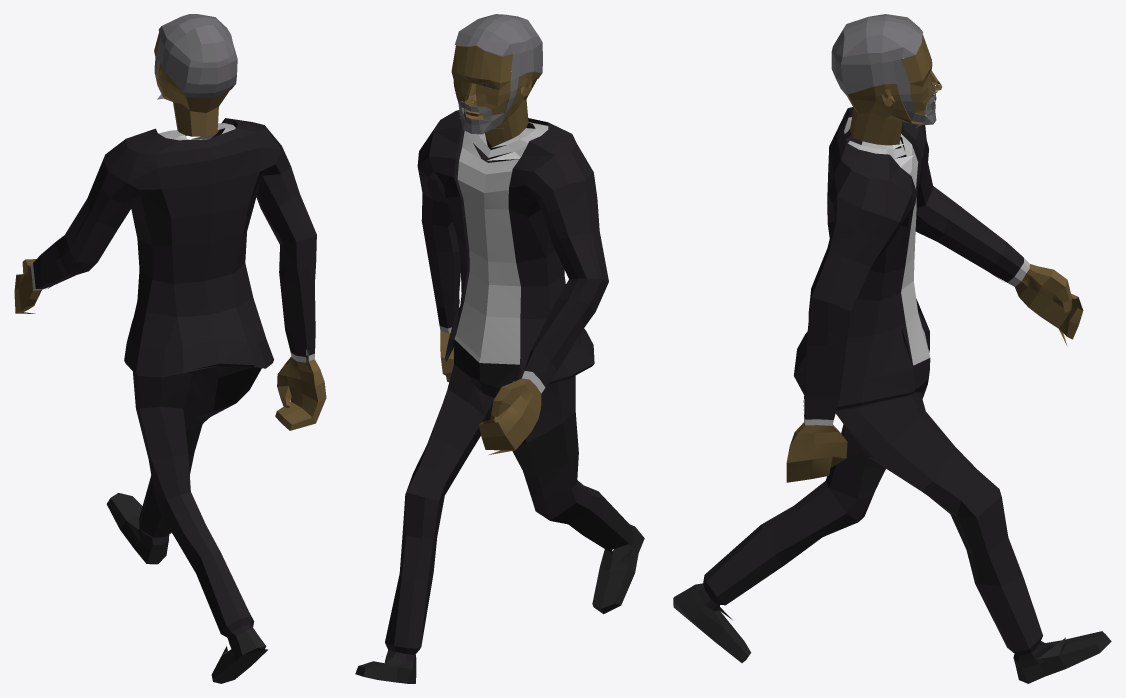
File: person_4_w3.fbx
3 views of the same model, side by side, from view 1: azimuth 30°, elevation 25°; view 2: azimuth 150°, elevation 25°; view 3: azimuth 270°, elevation 25° (orthographic). The views are drawn at different scales.
Parts seen in each view (by area): view 1: BaseHuman; view 2: BaseHuman; view 3: BaseHuman.
Part boxes in pixels (left/top/right/bottom): BaseHuman: left=14, top=14, right=326, bottom=683; BaseHuman: left=355, top=14, right=644, bottom=683; BaseHuman: left=673, top=14, right=1111, bottom=683.
Bounding box in the file's own units: 0.3508 × 1 × 0.601.
